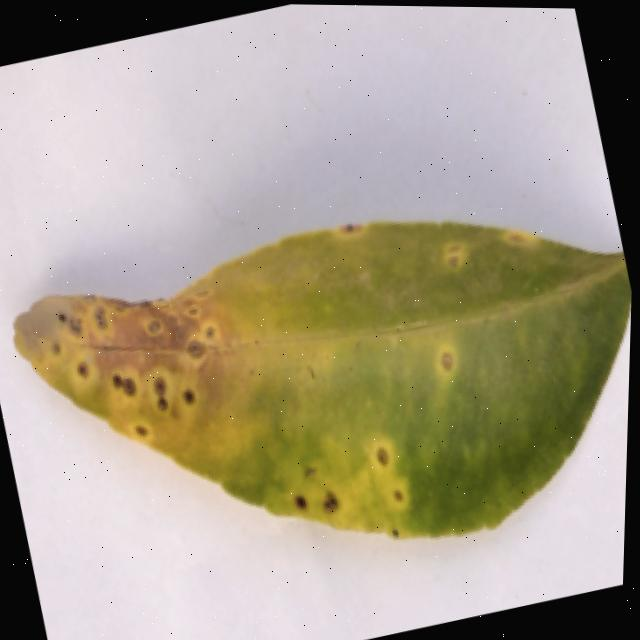canker: (14, 220, 632, 536), (16, 289, 239, 442), (225, 438, 420, 527), (399, 219, 553, 289), (419, 328, 467, 381)
